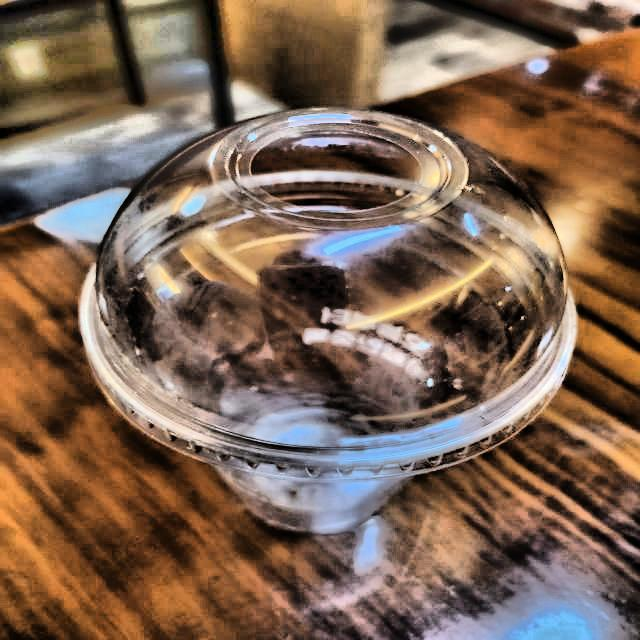plastic cup: (50, 93, 610, 592)
